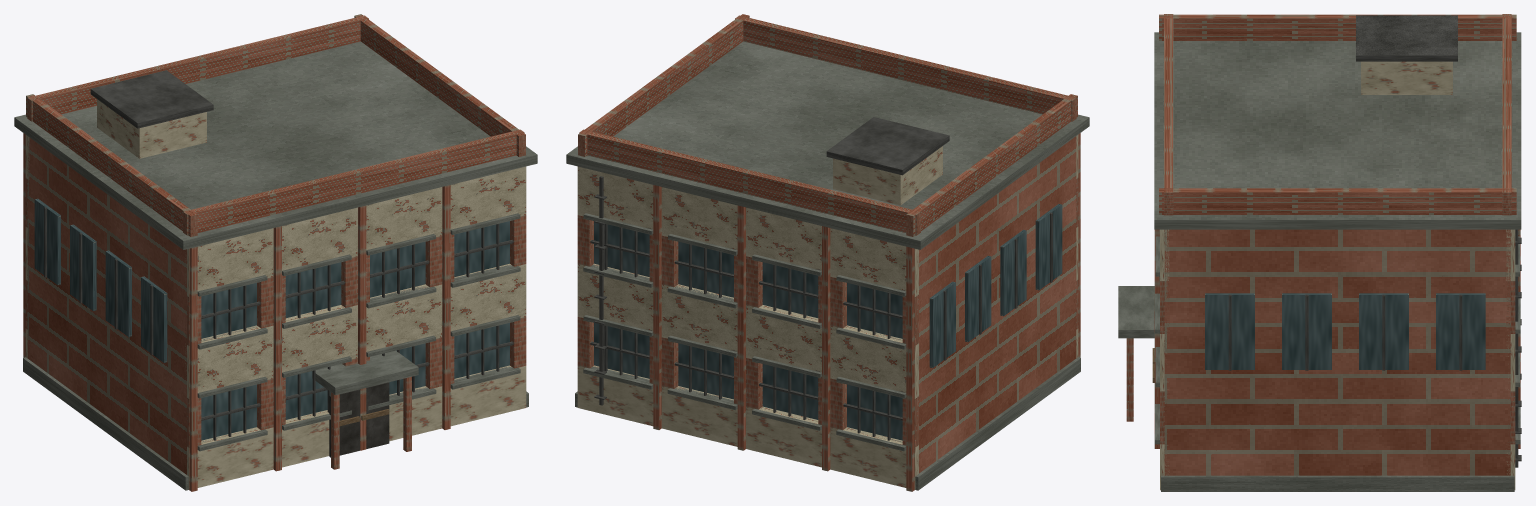
The model's file is industrial_admin.gltf.
The picture shows the model from 3 angles, left to right: view 1: azimuth 30°, elevation 25°; view 2: azimuth 150°, elevation 25°; view 3: azimuth 270°, elevation 25°; orthographic projection. The views are drawn at different scales.
Visible parts, largest first — view 1: industrial_admin; view 2: industrial_admin; view 3: industrial_admin.
Part boxes in pixels (left/top/right/bottom): industrial_admin: left=14, top=14, right=537, bottom=491; industrial_admin: left=566, top=14, right=1089, bottom=491; industrial_admin: left=1118, top=14, right=1521, bottom=491.
Size of the model in its own units: 11.55 by 9.09 by 10.49.
1 material, 1 textured.
